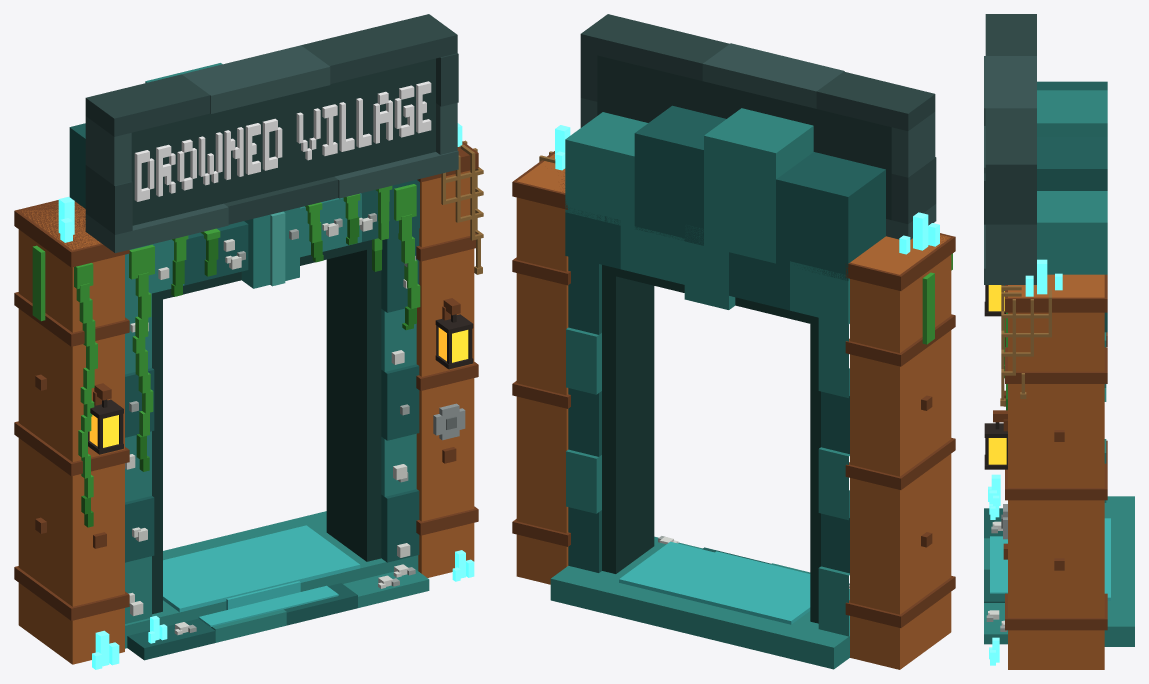
File: Lobby_PortalArch_DrownedVillage.glb
3 views of the same model, side by side, from view 1: azimuth 30°, elevation 25°; view 2: azimuth 150°, elevation 25°; view 3: azimuth 270°, elevation 25° (orthographic). The views are drawn at different scales.
Parts seen in each view (by area): view 1: TimberPosts, InnerReveal, SignBoard, SignFrame_SignStoneDark, SignFrame_SignStone, StoneFrame_StoneDark, Puddle, TimberBands, Seaweed_Seaweed, StoneFrame_Stone, SignText, StonePlinth (+14 smaller); view 2: TimberPosts, StoneFrame_Stone, StoneFrame_StoneDark, InnerReveal, SignFrame_SignStoneDark, StonePlinth, SignBoard, TimberBands, Puddle, SignFrame_SignStone, Keystone_Stone, PostCrystals (+1 smaller); view 3: TimberPosts, StoneFrame_Stone, SignFrame_SignStoneDark, TimberBands, SignFrame_SignStone, StoneFrame_StoneDark, StonePlinth, RopeNet, Puddle, StoneStep_Stone, LanternGlass, Lanterns_Iron (+4 smaller).
Boxes of the visible parts, x1,y1,x2,y2 form: TimberPosts: (18, 170, 474, 664); InnerReveal: (152, 240, 381, 614); SignBoard: (131, 58, 435, 225); SignFrame_SignStoneDark: (85, 14, 458, 234); SignFrame_SignStone: (85, 45, 458, 253); StoneFrame_StoneDark: (69, 123, 419, 562); Puddle: (163, 525, 360, 626); TimberBands: (14, 141, 478, 620); Seaweed_Seaweed: (32, 184, 420, 498); StoneFrame_Stone: (125, 63, 416, 623); SignText: (134, 81, 431, 201); StonePlinth: (125, 511, 418, 648); TimberPosts: (516, 154, 951, 669); StoneFrame_Stone: (565, 108, 849, 636); StoneFrame_StoneDark: (565, 105, 885, 573); InnerReveal: (602, 265, 820, 623); SignFrame_SignStoneDark: (580, 14, 936, 223); StonePlinth: (550, 541, 849, 669); SignBoard: (597, 55, 891, 219); TimberBands: (512, 151, 955, 627); Puddle: (619, 541, 810, 624); SignFrame_SignStone: (580, 43, 936, 239); Keystone_Stone: (684, 225, 735, 309); PostCrystals: (555, 125, 939, 254); TimberPosts: (1008, 274, 1104, 669); StoneFrame_Stone: (1037, 90, 1107, 516); SignFrame_SignStoneDark: (984, 14, 1036, 224); TimberBands: (1005, 274, 1107, 630); SignFrame_SignStone: (984, 56, 1036, 284); StoneFrame_StoneDark: (1037, 81, 1107, 332); StonePlinth: (1104, 496, 1134, 646); RopeNet: (1000, 285, 1051, 406); Puddle: (990, 518, 1110, 600); StoneStep_Stone: (984, 538, 1007, 644); LanternGlass: (988, 285, 1006, 464); Lanterns_Iron: (984, 285, 1007, 469).
Size of the model in its own units: 2.86 by 3.6 by 1.
